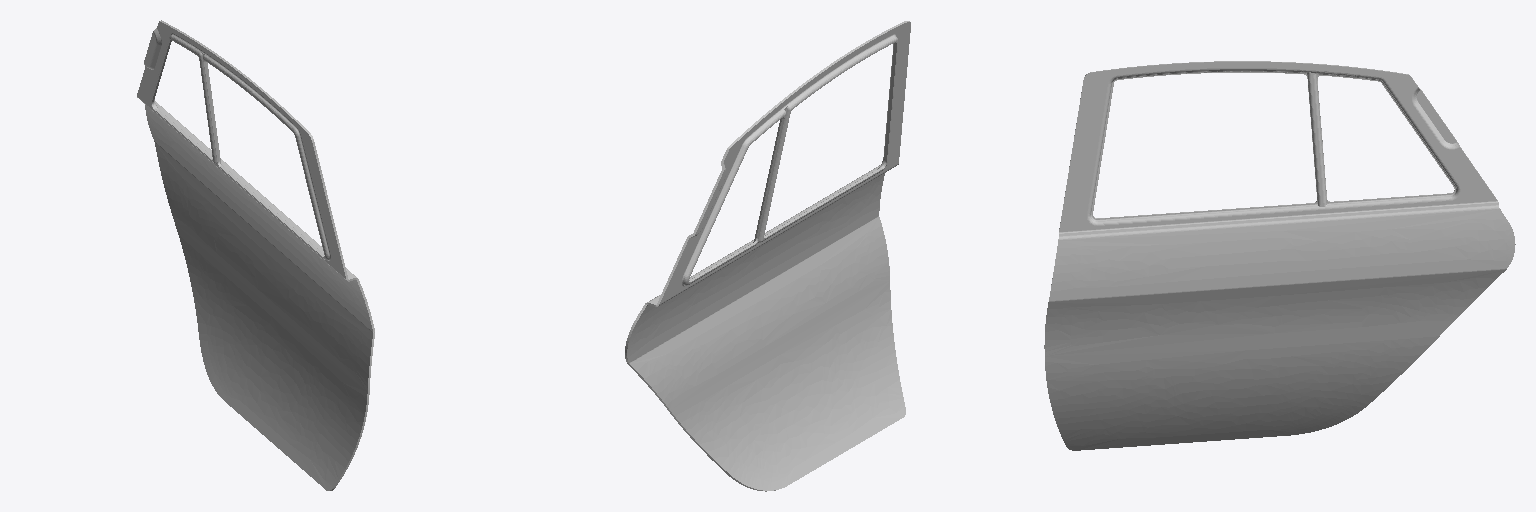
URDF robot description (carDoor):
<?xml version="1.0"?>
<robot name="carDoor">
  <link name="carDoor_base_link">

    <visual>
      <origin rpy="0 0 0" xyz="0.0 0.0 0.0"/>
      <geometry>
          <mesh filename="test.obj" scale="1 1 1"/>
      </geometry>
      <material name="gray">
        <color rgba="0.8 0.8 0.8 1"/>
      </material>
    </visual>
    <collision>
      <origin rpy="0 0 0" xyz="0.0 0.0 0.0"/>
      <geometry>
          <mesh filename="test.obj" scale="1 1 1"/>
      </geometry>
    </collision>
  </link>
</robot>

--- Render facts (derived) ---
Views: 3 orthographic renders of the robot side by side, from view 1: azimuth 30°, elevation 25°; view 2: azimuth 150°, elevation 25°; view 3: azimuth 270°, elevation 25°.
Model carDoor with 1 links and 0 joints (none), rooted at carDoor_base_link, posed all joints at 0.
Visible links, largest first — view 1: carDoor_base_link; view 2: carDoor_base_link; view 3: carDoor_base_link.
Boxes of the visible links, x1=… form: carDoor_base_link: x1=137, y1=20, x2=374, y2=490; carDoor_base_link: x1=625, y1=21, x2=910, y2=491; carDoor_base_link: x1=1044, y1=61, x2=1515, y2=450.
Size in the robot's own frame: 0.1279 by 1 by 0.8984 metres.
1 mesh visuals loaded from 1 distinct referenced files (1 OBJ).